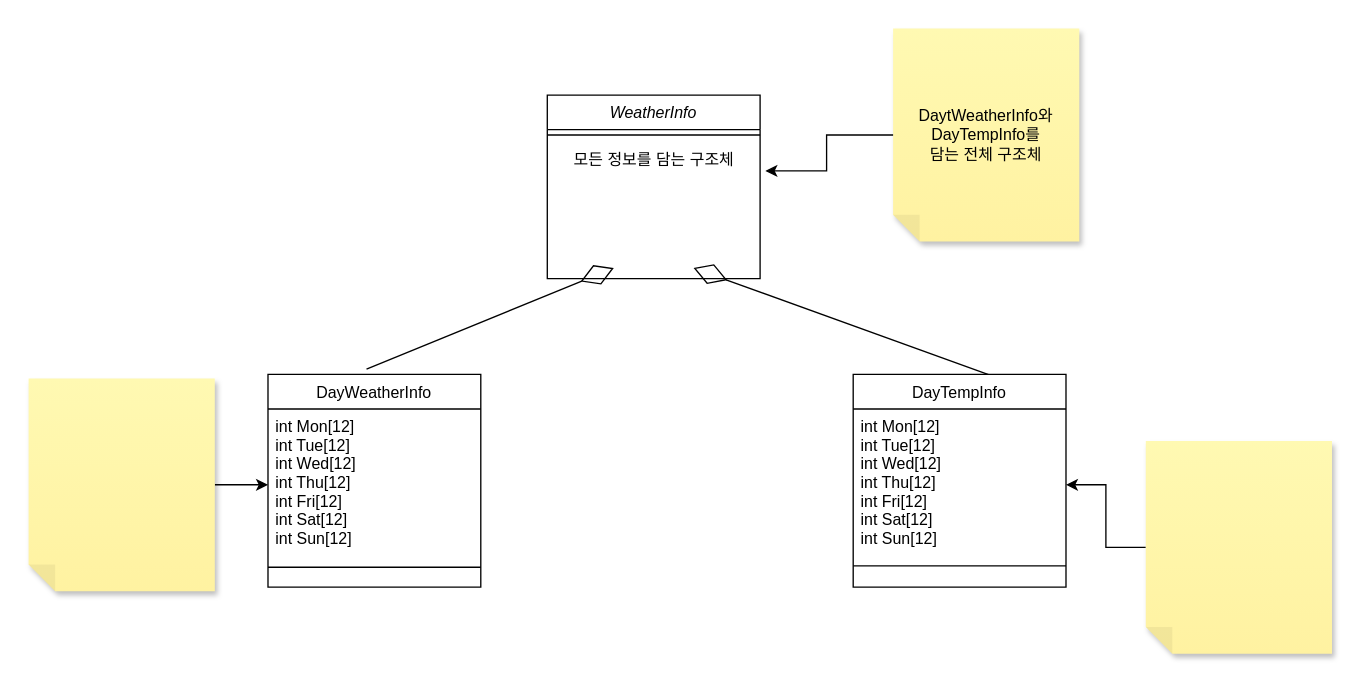
Image size: 1362x685. Some labels were removed from this diagram. Here are the shapes that lost their labels. From the top down, the centre of each, then its label:
At pixel 122 486: "각 요일의 12시간의 날씨 정보를 담는 구조체".
At pixel 1239 548: "각 요일의 12시간의 기온 정보를 담는 구조체".
